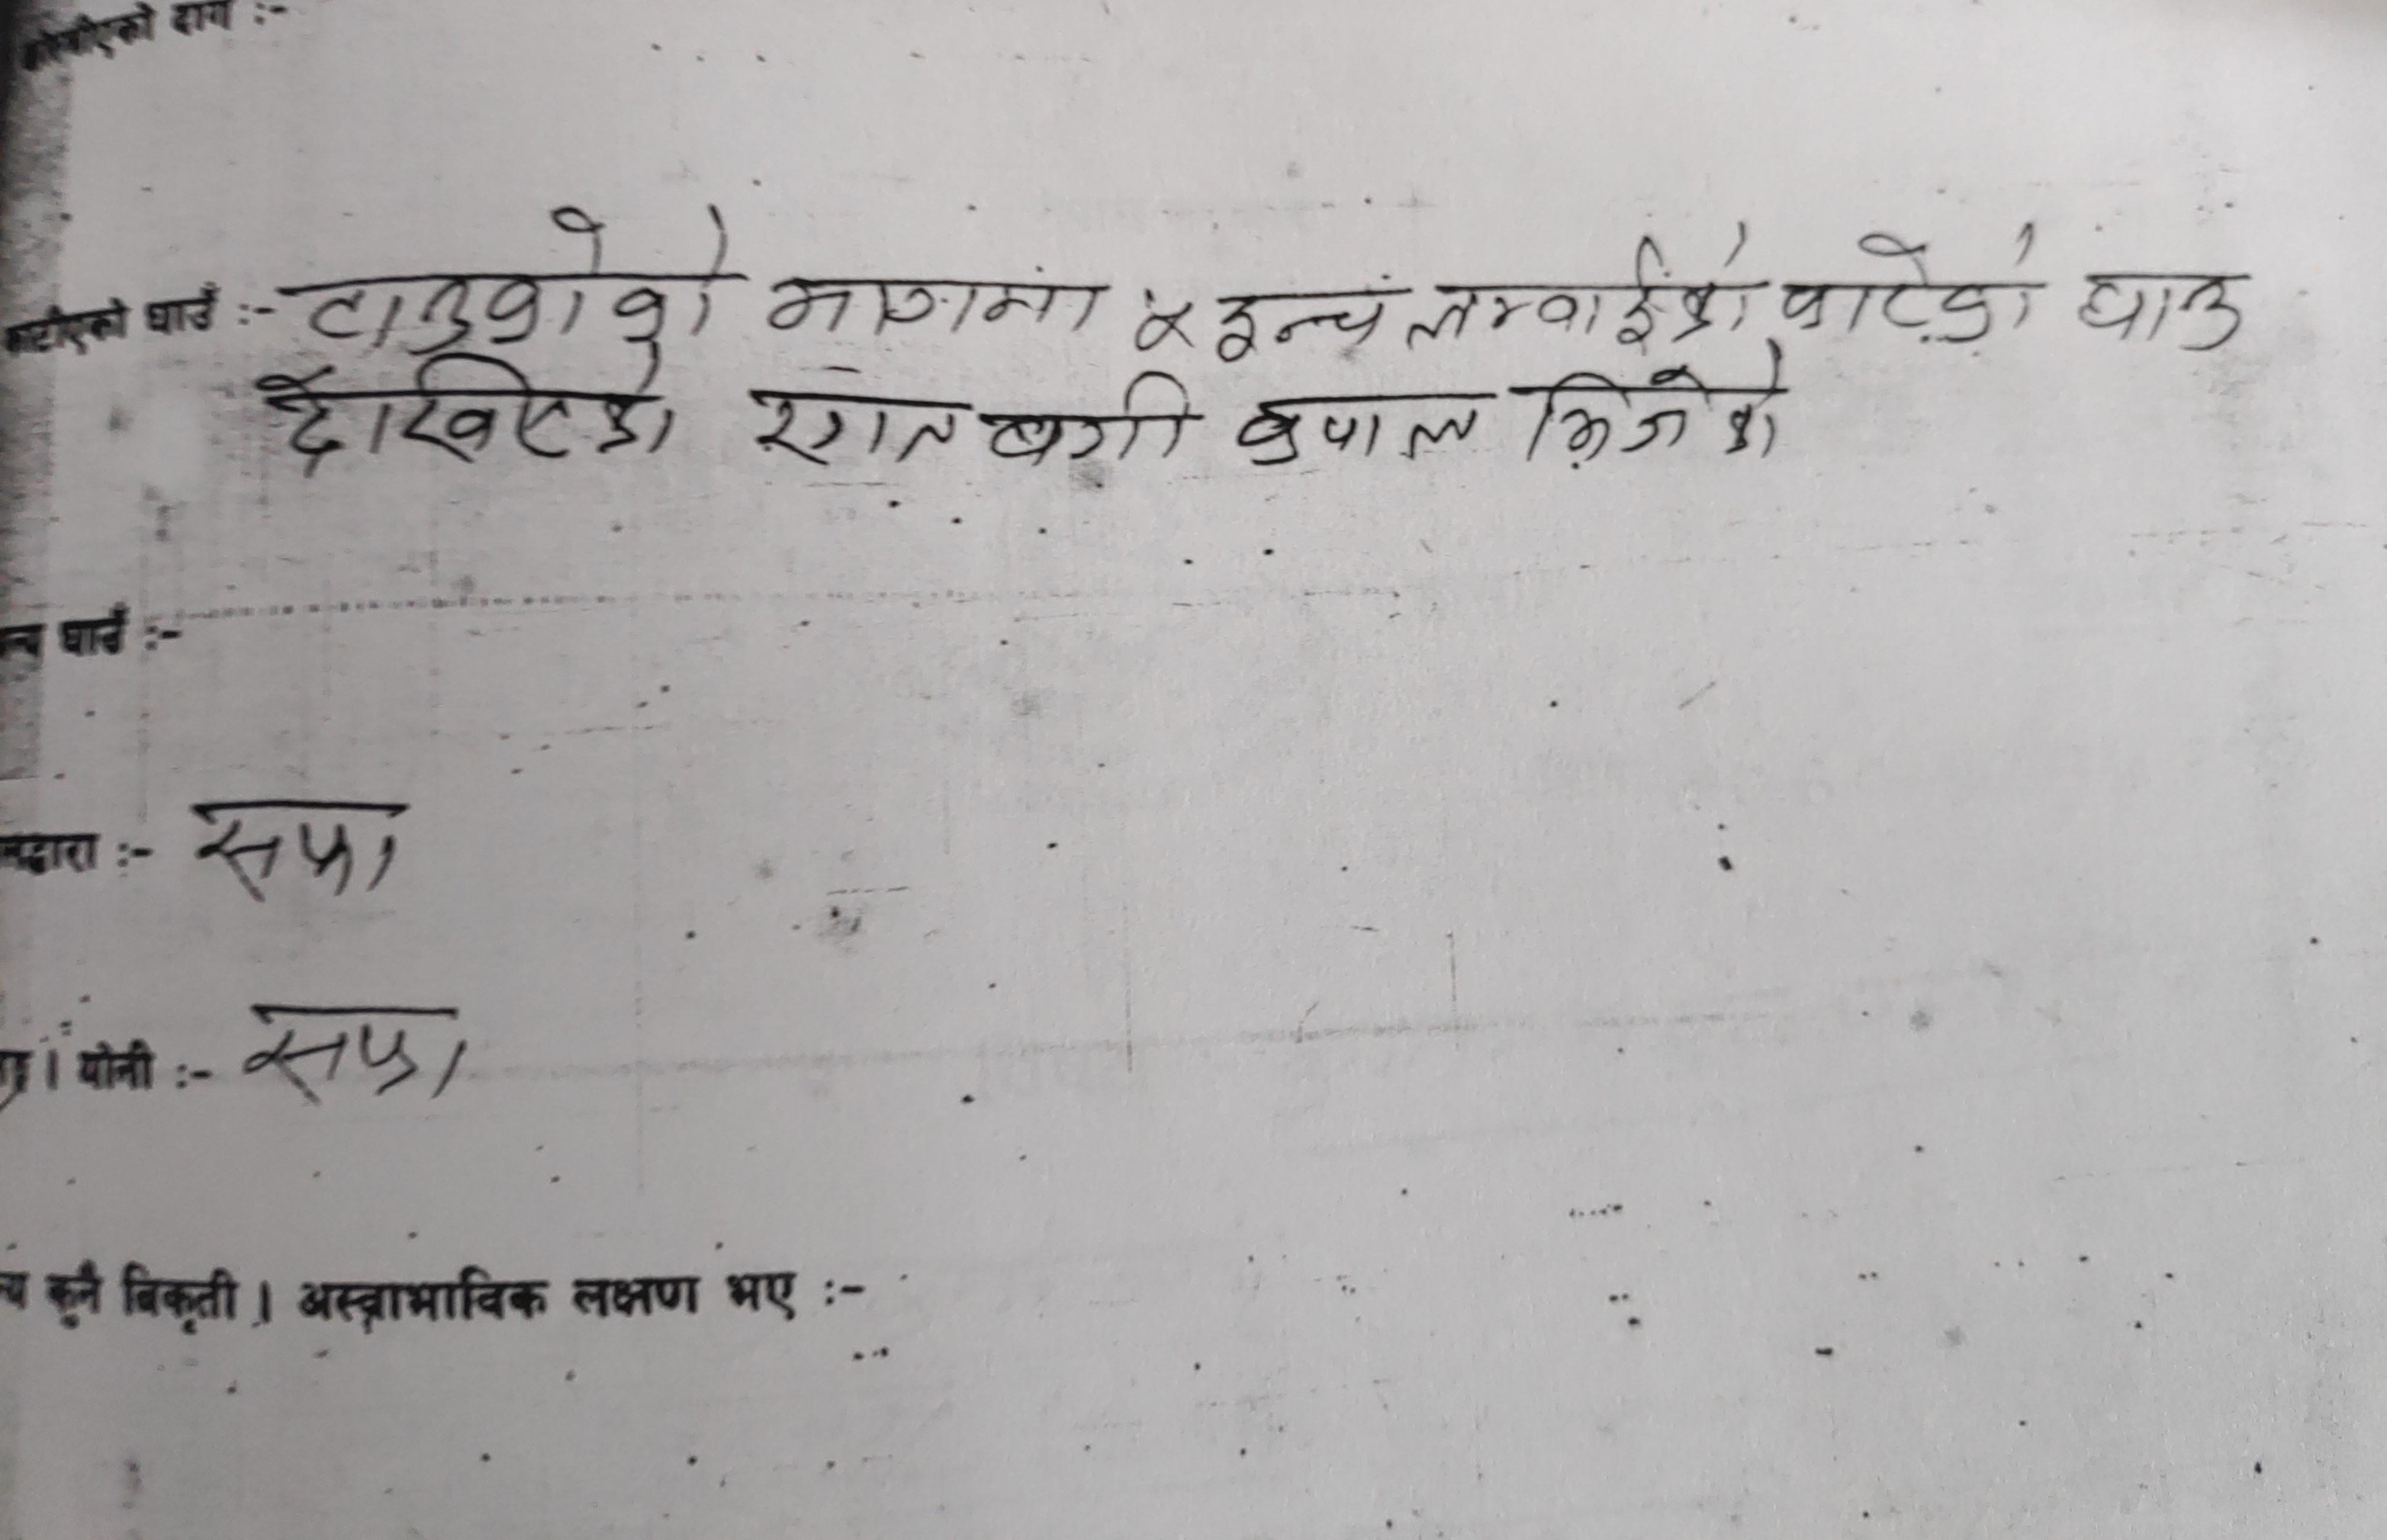text: (294, 193, 739, 353), (245, 353, 685, 480), (1402, 212, 1752, 353), (1778, 211, 2048, 350), (1521, 355, 1795, 480), (762, 261, 1112, 358), (183, 790, 423, 908), (1221, 379, 1491, 484), (973, 362, 1200, 480), (238, 1001, 487, 1105), (741, 376, 967, 480), (2065, 263, 2251, 365), (1213, 284, 1395, 358), (1133, 271, 1195, 353)
